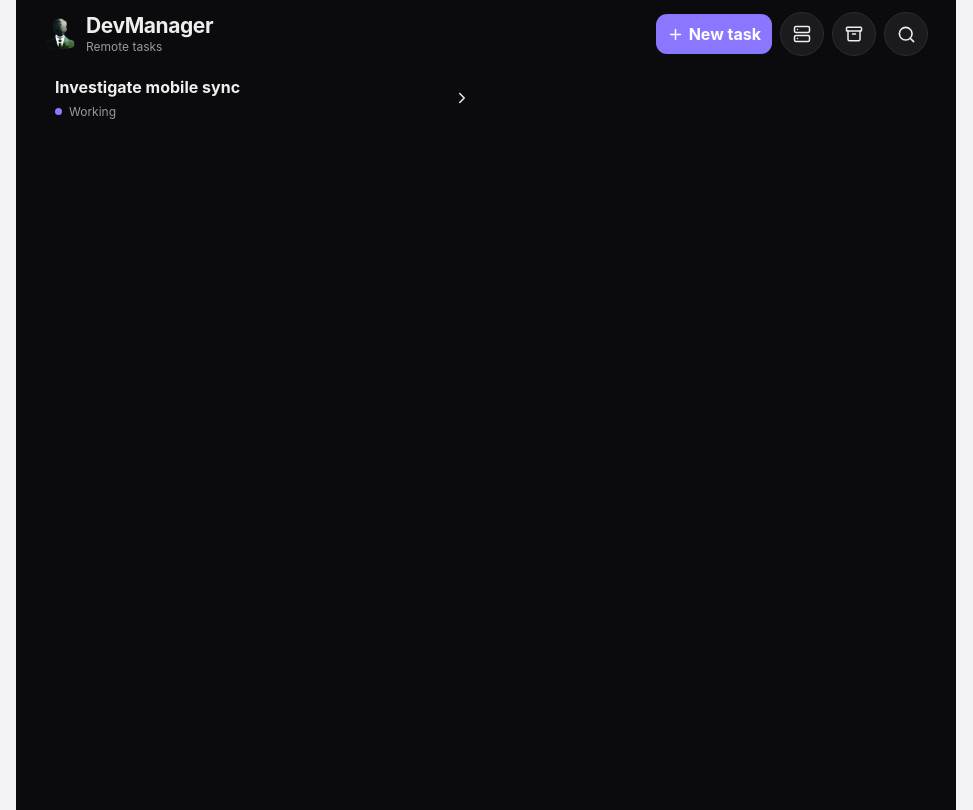
Scenario: NativeRemoteApp › explains why a returned task cannot accept a message and preserves its draft
Click the button "Investigate mobile sync Working" at [148, 87], box [44,62,482,134]
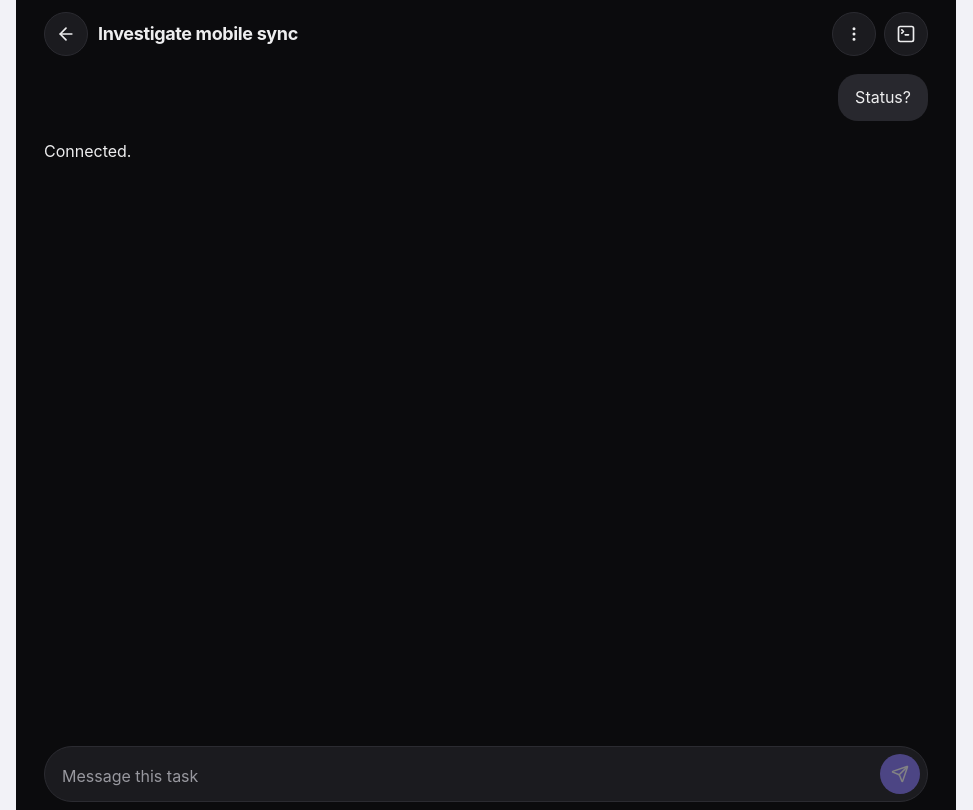
Type "Keep this text." into the text box labelled "Message this task" at [462, 777], box [52,760,872,794]
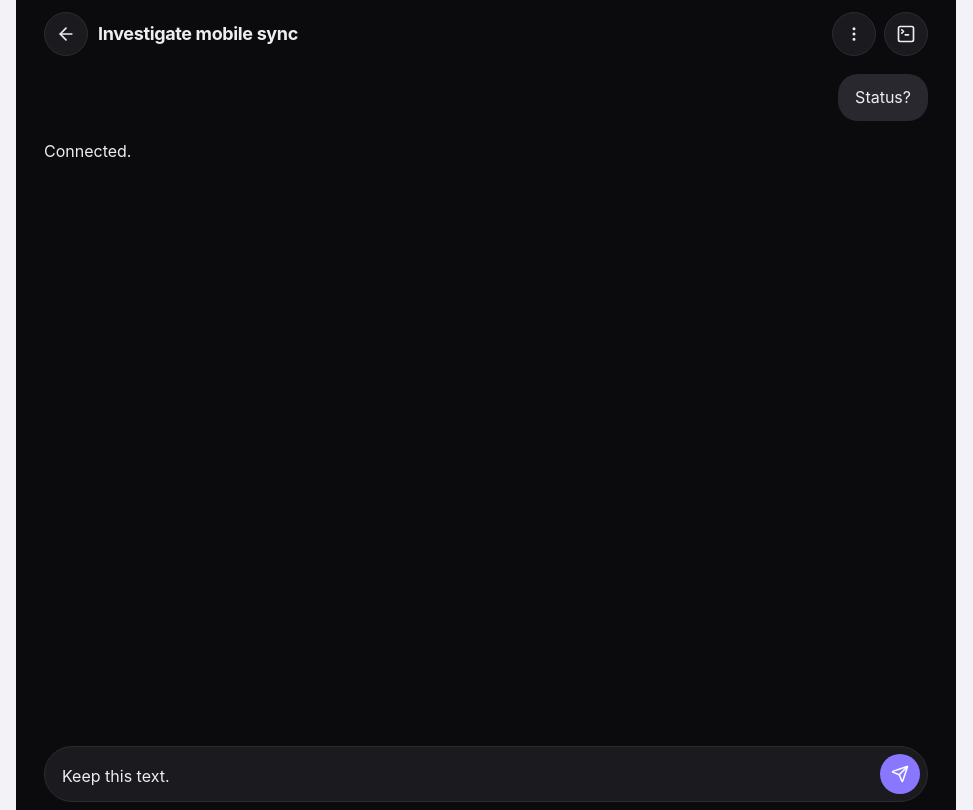
Click the button named "send" at [900, 774], box [880,754,920,794]
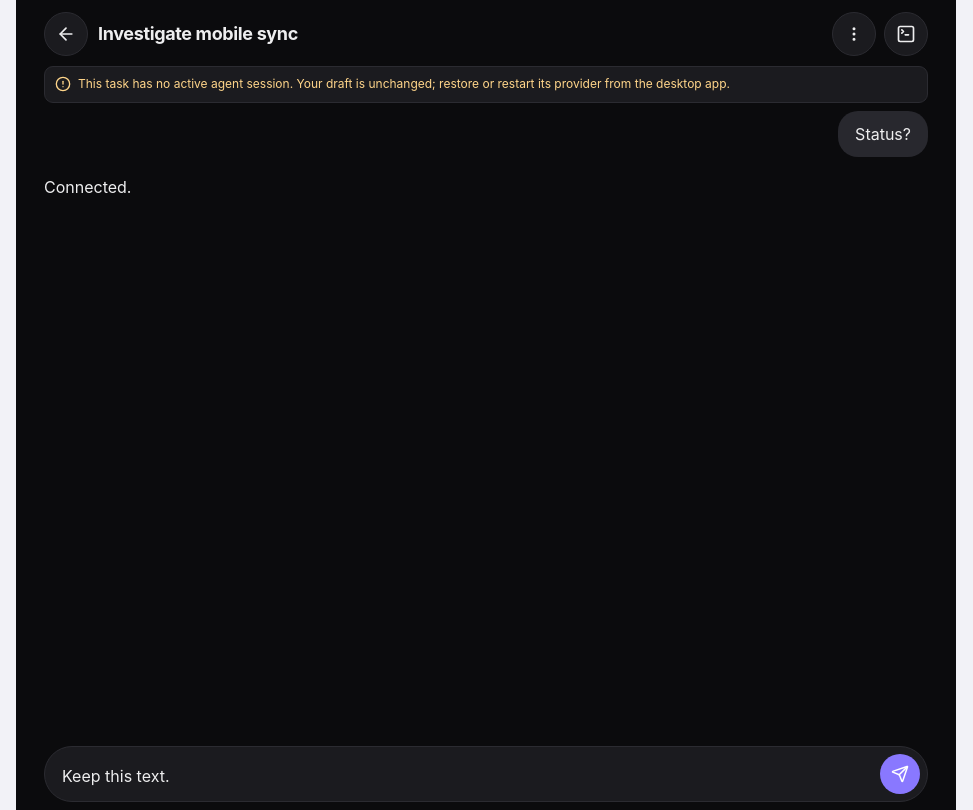
Check: the text "no active agent session" is shown, box [78,76,730,91]
